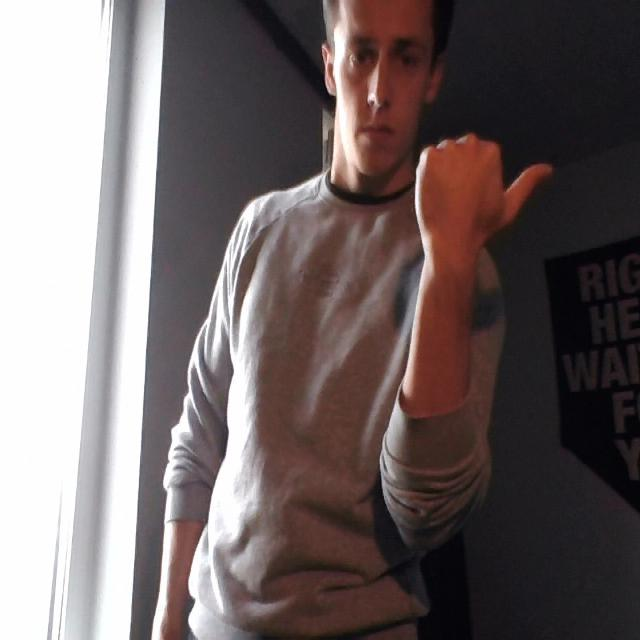right: (404, 118, 556, 252)
